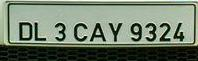2: (157, 21, 171, 41)
3: (142, 21, 157, 41), (52, 21, 65, 41)
4: (171, 21, 185, 41)
9: (128, 21, 143, 41)
A: (88, 21, 106, 41)
C: (72, 21, 88, 41)
D: (17, 21, 32, 40)
L: (32, 21, 45, 40)
Y: (106, 21, 122, 42)
